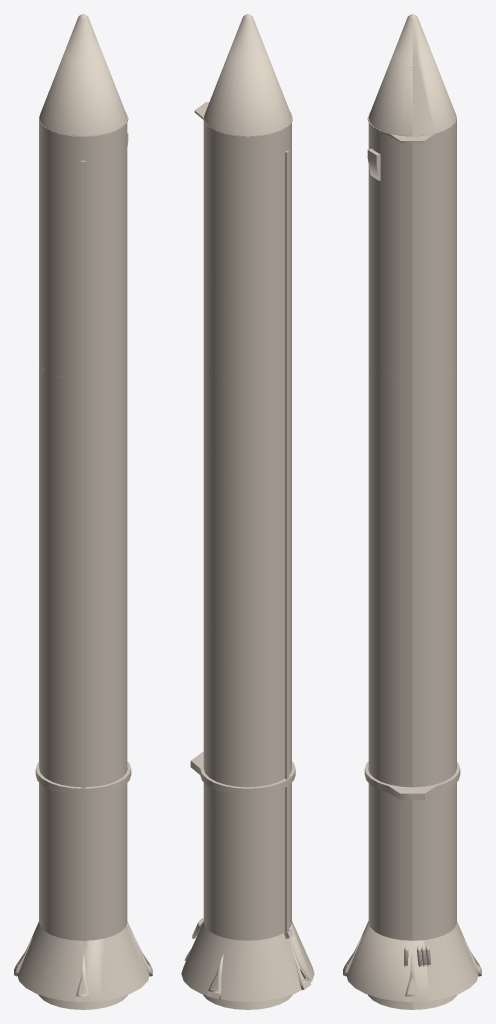
Rendered from SRB.FBX.
3 renders of one model, left to right at view 1: azimuth 90°, elevation 25°; view 2: azimuth 150°, elevation 25°; view 3: azimuth 270°, elevation 25°, orthographic.
Visible parts, largest first — view 1: srb.layer1; view 2: srb.layer1; view 3: srb.layer1.
Boxes of the visible parts, <box> form: srb.layer1: <box>14,14,152,1009</box>; srb.layer1: <box>181,14,314,1009</box>; srb.layer1: <box>343,14,481,1009</box>.
Size of the model in its own units: 229 by 1781 by 229.
